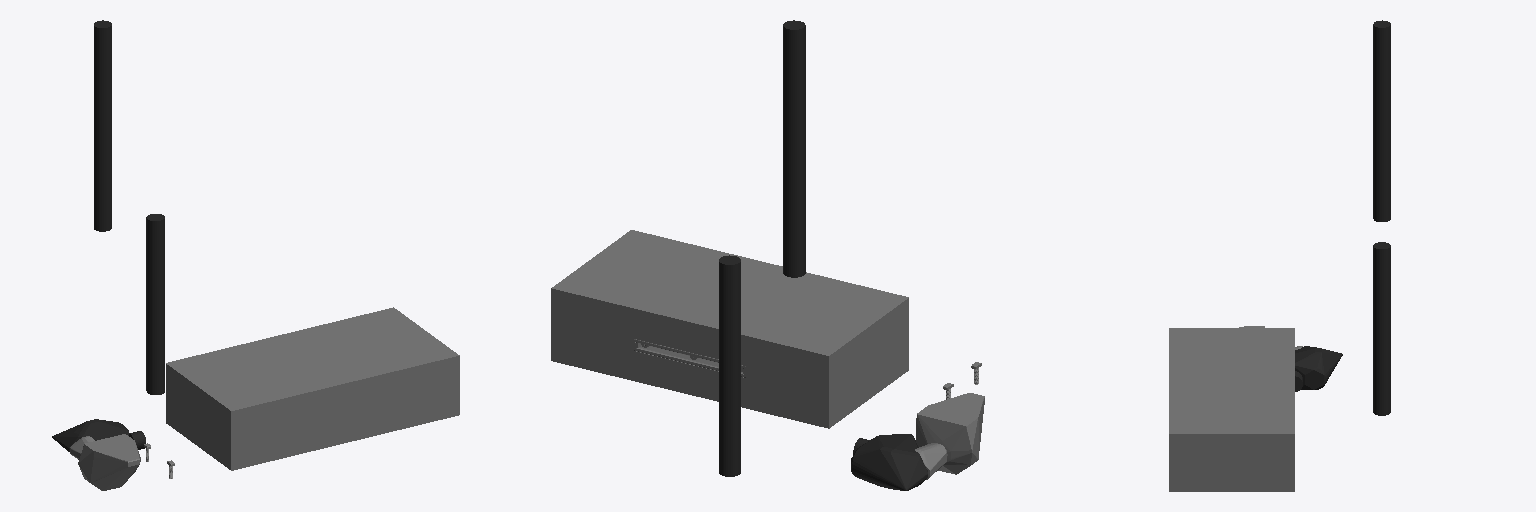
--- What the picture shows (computed from the rendered views, not written in the file) ---
3 views of the same robot in one strip: view 1: azimuth 30°, elevation 25°; view 2: azimuth 150°, elevation 25°; view 3: azimuth 270°, elevation 25° (orthographic).
Model metalman with 35 links and 34 joints (6 revolute, 28 fixed), rooted at world, posed every joint at zero.
Visible links, largest first — view 1: channel, left_upper_arm_link_cable, left_forearm_link_cable, left_bracket_gripper, left_extender; view 2: channel, left_upper_arm_link_cable, left_forearm_link_cable, left_bracket_gripper, left_extender, left_rotary; view 3: channel, left_upper_arm_link_cable, left_forearm_link_cable, left_extender.
Boxes of the visible links, x1,y1,x2,y2 form: channel: (166,307,459,470); left_upper_arm_link_cable: (94,20,111,231); left_forearm_link_cable: (146,214,164,394); left_bracket_gripper: (78,434,140,490); left_extender: (52,419,128,459); channel: (551,230,908,428); left_upper_arm_link_cable: (783,20,805,277); left_forearm_link_cable: (719,255,740,476); left_bracket_gripper: (916,393,984,474); left_extender: (851,434,927,490); left_rotary: (915,443,947,479); channel: (1169,328,1294,491); left_upper_arm_link_cable: (1373,20,1390,221); left_forearm_link_cable: (1373,242,1390,415); left_extender: (1295,346,1342,389).
Bounding box of the posed robot: 1.45 × 0.8813 × 1.67 m (x, y, z).
6 mesh visuals loaded from 13 distinct referenced files (5 binary STL); not drawn: 8 (reference not matched to a file when rendering).

URDF robot description (metalman):
<?xml version="1.0" ?>
<!-- =================================================================================== -->
<!-- |    This document was autogenerated by xacro from rl.xacro                       | -->
<!-- |    EDITING THIS FILE BY HAND IS NOT RECOMMENDED                                 | -->
<!-- =================================================================================== -->
<robot name="metalman">
  <mujoco>
    <compiler meshdir="../meshes/" strippath="false"/>
  </mujoco>
  <link name="world"/>
  <link name="base_link"/>
  <joint name="world_to_base" type="fixed">
    <parent link="world"/>
    <child link="base_link"/>
    <origin rpy="0 0 0" xyz="0 0 1.27"/>
  </joint>
  <!--
    Base UR robot series xacro macro.

    NOTE: this is NOT a URDF. It cannot directly be loaded by consumers
    expecting a flattened '.urdf' file. See the top-level '.xacro' for that
    (but note: that .xacro must still be processed by the xacro command).

    For use in '.launch' files: use one of the 'load_urX.launch' convenience
    launch files.

    This file models the base kinematic chain of a UR robot, which then gets
    parameterised by various configuration files to convert it into a UR3(e),
    UR5(e), UR10(e), UR16e or UR20.

    NOTE: the default kinematic parameters (ie: link lengths, frame locations,
    offets, etc) do not correspond to any particular robot. They are defaults
    only. There WILL be non-zero offsets between the Forward Kinematics results
    in TF (ie: robot_state_publisher) and the values reported by the Teach
    Pendant.

    For accurate (and robot-specific) transforms, the 'kinematics_parameters_file'
    parameter MUST point to a .yaml file containing the appropriate values for
    the targetted robot.

    If using the UniversalRobots/Universal_Robots_ROS_Driver, follow the steps
    described in the readme of that repository to extract the kinematic
    calibration from the controller and generate the required .yaml file.

    Main author of the migration to yaml configs: Ludovic Delval.

    Contributors to previous versions (in no particular order):

     - Felix Messmer
     - Kelsey Hawkins
     - Wim Meeussen
     - Shaun Edwards
     - Nadia Hammoudeh Garcia
     - Dave Hershberger
     - G. vd. Hoorn
     - Philip Long
     - Dave Coleman
     - Miguel Prada
     - Mathias Luedtke
     - Marcel Schnirring
     - Felix von Drigalski
     - Felix Exner
     - Jimmy Da Silva
     - Ajit Krisshna N L
     - Muhammad Asif Rana
  -->
  <!--
    NOTE: the macro defined in this file is NOT part of the public API of this
          package. Users CANNOT rely on this file being available, or stored in
          this location. Nor can they rely on the existence of the macro.
  -->
  <transmission name="left_shoulder_pan_trans">
    <type>transmission_interface/SimpleTransmission</type>
    <joint name="left_shoulder_pan_joint">
      <hardwareInterface>hardware_interface/PositionJointInterface</hardwareInterface>
    </joint>
    <actuator name="left_shoulder_pan_motor">
      <mechanicalReduction>1</mechanicalReduction>
    </actuator>
  </transmission>
  <transmission name="left_shoulder_lift_trans">
    <type>transmission_interface/SimpleTransmission</type>
    <joint name="left_shoulder_lift_joint">
      <hardwareInterface>hardware_interface/PositionJointInterface</hardwareInterface>
    </joint>
    <actuator name="left_shoulder_lift_motor">
      <mechanicalReduction>1</mechanicalReduction>
    </actuator>
  </transmission>
  <transmission name="left_elbow_trans">
    <type>transmission_interface/SimpleTransmission</type>
    <joint name="left_elbow_joint">
      <hardwareInterface>hardware_interface/PositionJointInterface</hardwareInterface>
    </joint>
    <actuator name="left_elbow_motor">
      <mechanicalReduction>1</mechanicalReduction>
    </actuator>
  </transmission>
  <transmission name="left_wrist_1_trans">
    <type>transmission_interface/SimpleTransmission</type>
    <joint name="left_wrist_1_joint">
      <hardwareInterface>hardware_interface/PositionJointInterface</hardwareInterface>
    </joint>
    <actuator name="left_wrist_1_motor">
      <mechanicalReduction>1</mechanicalReduction>
    </actuator>
  </transmission>
  <transmission name="left_wrist_2_trans">
    <type>transmission_interface/SimpleTransmission</type>
    <joint name="left_wrist_2_joint">
      <hardwareInterface>hardware_interface/PositionJointInterface</hardwareInterface>
    </joint>
    <actuator name="left_wrist_2_motor">
      <mechanicalReduction>1</mechanicalReduction>
    </actuator>
  </transmission>
  <transmission name="left_wrist_3_trans">
    <type>transmission_interface/SimpleTransmission</type>
    <joint name="left_wrist_3_joint">
      <hardwareInterface>hardware_interface/PositionJointInterface</hardwareInterface>
    </joint>
    <actuator name="left_wrist_3_motor">
      <mechanicalReduction>1</mechanicalReduction>
    </actuator>
  </transmission>
  <!-- links: main serial chain -->
  <link name="left_base_link"/>
  <link name="left_base_link_inertia">
    <visual>
      <origin rpy="0 0 3.141592653589793" xyz="0 0 0"/>
      <geometry>
        <mesh filename="ur20/visual/base.dae"/>
      </geometry>
      <material name="LightGrey">
        <color rgba="0.7 0.7 0.7 1.0"/>
      </material>
    </visual>
    <collision>
      <origin rpy="0 0 3.141592653589793" xyz="0 0 0"/>
      <geometry>
        <mesh filename="ur20/collision/base.stl" scale="1.3 1.3 1.3"/>
      </geometry>
    </collision>
    <inertial>
      <mass value="4.0"/>
      <origin rpy="0 0 0" xyz="0 0 0"/>
      <inertia ixx="0.0061063308908" ixy="0.0" ixz="0.0" iyy="0.0061063308908" iyz="0.0" izz="0.01125"/>
    </inertial>
  </link>
  <link name="left_shoulder_link">
    <visual>
      <origin rpy="0 0 3.141592653589793" xyz="0 0 0"/>
      <geometry>
        <mesh filename="ur20/visual/shoulder.dae"/>
      </geometry>
      <material name="LightGrey">
        <color rgba="0.7 0.7 0.7 1.0"/>
      </material>
    </visual>
    <collision>
      <origin rpy="0 0 3.141592653589793" xyz="0 0 0"/>
      <geometry>
        <mesh filename="ur20/collision/shoulder.stl" scale="1.3 1.3 1.3"/>
      </geometry>
    </collision>
    <inertial>
      <mass value="16.343"/>
      <origin rpy="0 0 0" xyz="0 0 0"/>
      <inertia ixx="0.06613328496334209" ixy="0.0" ixz="0.0" iyy="0.06613328496334209" iyz="0.0" izz="0.0459646875"/>
    </inertial>
  </link>
  <link name="left_upper_arm_link">
    <visual>
      <origin rpy="1.5707963267948966 0 -1.5707963267948966" xyz="0 0 0.26"/>
      <geometry>
        <mesh filename="ur20/visual/upperarm.dae"/>
      </geometry>
      <material name="LightGrey">
        <color rgba="0.7 0.7 0.7 1.0"/>
      </material>
    </visual>
    <collision>
      <origin rpy="1.5707963267948966 0 -1.5707963267948966" xyz="0 0 0.26"/>
      <geometry>
        <mesh filename="ur20/collision/upperarm.stl" scale="1.3 1.3 1"/>
      </geometry>
    </collision>
    <inertial>
      <mass value="29.632"/>
      <origin rpy="0 1.5707963267948966 0" xyz="-0.426 0.0 0.275"/>
      <inertia ixx="1.8341682103324226" ixy="0.0" ixz="0.0" iyy="1.8341682103324226" iyz="0.0" izz="0.08334"/>
    </inertial>
  </link>
  <link name="left_forearm_link">
    <visual>
      <origin rpy="1.5707963267948966 0 -1.5707963267948966" xyz="0 0 0.043"/>
      <geometry>
        <mesh filename="ur20/visual/forearm.dae"/>
      </geometry>
      <material name="LightGrey">
        <color rgba="0.7 0.7 0.7 1.0"/>
      </material>
    </visual>
    <collision>
      <origin rpy="1.5707963267948966 0 -1.5707963267948966" xyz="0 0 0.043"/>
      <geometry>
        <mesh filename="ur20/collision/forearm.stl" scale="1.3 1.3 1"/>
      </geometry>
    </collision>
    <inertial>
      <mass value="7.879"/>
      <origin rpy="0 1.5707963267948966 0" xyz="-0.36435 0.0 0.043"/>
      <inertia ixx="0.35972787265129336" ixy="0.0" ixz="0.0" iyy="0.35972787265129336" iyz="0.0" izz="0.022159687499999997"/>
    </inertial>
  </link>
  <link name="left_wrist_1_link">
    <visual>
      <!-- TODO: Move this to a parameter -->
      <origin rpy="1.5707963267948966 0 0" xyz="0 0 -0.0775"/>
      <geometry>
        <mesh filename="ur20/visual/wrist1.dae"/>
      </geometry>
      <material name="LightGrey">
        <color rgba="0.7 0.7 0.7 1.0"/>
      </material>
    </visual>
    <collision>
      <origin rpy="1.5707963267948966 0 0" xyz="0 0 -0.0775"/>
      <geometry>
        <mesh filename="ur20/collision/wrist1.stl" scale="1.3 1.3 1.3"/>
      </geometry>
    </collision>
    <inertial>
      <mass value="3.054"/>
      <origin rpy="0 0 0" xyz="0 0 0"/>
      <inertia ixx="0.007959484316204999" ixy="0.0" ixz="0.0" iyy="0.007959484316204999" iyz="0.0" izz="0.008589374999999998"/>
    </inertial>
  </link>
  <link name="left_wrist_2_link">
    <visual>
      <origin rpy="0 0 0" xyz="0 0 -0.0749"/>
      <geometry>
        <mesh filename="ur20/visual/wrist2.dae"/>
      </geometry>
      <material name="LightGrey">
        <color rgba="0.7 0.7 0.7 1.0"/>
      </material>
    </visual>
    <collision>
      <origin rpy="0 0 0" xyz="0 0 -0.0749"/>
      <geometry>
        <mesh filename="ur20/collision/wrist2.stl" scale="1.3 1.3 1.3"/>
      </geometry>
    </collision>
    <inertial>
      <mass value="3.126"/>
      <origin rpy="0 0 0" xyz="0 0 0"/>
      <inertia ixx="0.008147134241144998" ixy="0.0" ixz="0.0" iyy="0.008147134241144998" iyz="0.0" izz="0.008791875"/>
    </inertial>
  </link>
  <link name="left_wrist_3_link">
    <visual>
      <origin rpy="1.5707963267948966 0 0" xyz="0 0 -0.07"/>
      <geometry>
        <mesh filename="ur20/visual/wrist3.dae"/>
      </geometry>
      <material name="LightGrey">
        <color rgba="0.7 0.7 0.7 1.0"/>
      </material>
    </visual>
    <collision>
      <origin rpy="1.5707963267948966 0 0" xyz="0 0 -0.07"/>
      <geometry>
        <mesh filename="ur20/collision/wrist3.stl" scale="1.3 1.3 1.3"/>
      </geometry>
    </collision>
    <inertial>
      <mass value="0.846"/>
      <origin rpy="0 0 0" xyz="0.0 0.0 -0.025"/>
      <inertia ixx="0.000604537258185" ixy="0.0" ixz="0.0" iyy="0.000604537258185" iyz="0.0" izz="0.0008565749999999999"/>
    </inertial>
  </link>
  <!-- joints: main serial chain -->
  <joint name="left_base_link-base_link_inertia" type="fixed">
    <parent link="left_base_link"/>
    <child link="left_base_link_inertia"/>
    <!-- 'base_link' is REP-103 aligned (so X+ forward), while the internal
           frames of the robot/controller have X+ pointing backwards.
           Use the joint between 'base_link' and 'base_link_inertia' (a dummy
           link/frame) to introduce the necessary rotation over Z (of pi rad).
      -->
    <origin rpy="0 0 3.141592653589793" xyz="0 0 0"/>
  </joint>
  <joint name="left_shoulder_pan_joint" type="revolute">
    <parent link="left_base_link_inertia"/>
    <child link="left_shoulder_link"/>
    <origin rpy="0 0 0" xyz="0 0 0.2363"/>
    <axis xyz="0 0 1"/>
    <limit effort="730.0" lower="-6.283185307179586" upper="6.283185307179586" velocity="2.0943951023931953"/>
    <dynamics damping="0" friction="0"/>
  </joint>
  <joint name="left_shoulder_lift_joint" type="revolute">
    <parent link="left_shoulder_link"/>
    <child link="left_upper_arm_link"/>
    <origin rpy="1.570796327 0 0" xyz="0 0 0"/>
    <axis xyz="0 0 1"/>
    <limit effort="730.0" lower="-6.283185307179586" upper="6.283185307179586" velocity="2.0943951023931953"/>
    <dynamics damping="0" friction="0"/>
  </joint>
  <joint name="left_elbow_joint" type="revolute">
    <parent link="left_upper_arm_link"/>
    <child link="left_forearm_link"/>
    <origin rpy="0 0 0" xyz="-0.862 0 0"/>
    <axis xyz="0 0 1"/>
    <limit effort="430.0" lower="-3.141592653589793" upper="3.141592653589793" velocity="2.6179938779914944"/>
    <dynamics damping="0" friction="0"/>
  </joint>
  <joint name="left_wrist_1_joint" type="revolute">
    <parent link="left_forearm_link"/>
    <child link="left_wrist_1_link"/>
    <origin rpy="0 0 0" xyz="-0.7287 0 0.201"/>
    <axis xyz="0 0 1"/>
    <limit effort="100.0" lower="-6.283185307179586" upper="6.283185307179586" velocity="3.6651914291880923"/>
    <dynamics damping="0" friction="0"/>
  </joint>
  <joint name="left_wrist_2_joint" type="revolute">
    <parent link="left_wrist_1_link"/>
    <child link="left_wrist_2_link"/>
    <origin rpy="1.570796327 0 0" xyz="0 -0.1593 -3.267297616249225e-11"/>
    <axis xyz="0 0 1"/>
    <limit effort="100.0" lower="-6.283185307179586" upper="6.283185307179586" velocity="3.6651914291880923"/>
    <dynamics damping="0" friction="0"/>
  </joint>
  <joint name="left_wrist_3_joint" type="revolute">
    <parent link="left_wrist_2_link"/>
    <child link="left_wrist_3_link"/>
    <origin rpy="1.570796326589793 3.141592653589793 3.141592653589793" xyz="0 0.1543 -3.1647459019915597e-11"/>
    <axis xyz="0 0 1"/>
    <limit effort="100.0" lower="-6.283185307179586" upper="6.283185307179586" velocity="3.6651914291880923"/>
    <dynamics damping="0" friction="0"/>
  </joint>
  <!-- ROS-Industrial 'base' frame: base_link to UR 'Base' Coordinates transform -->
  <link name="left_base"/>
  <joint name="left_base_link-base_fixed_joint" type="fixed">
    <!-- Note the rotation over Z of pi radians: as base_link is REP-103
           aligned (ie: has X+ forward, Y+ left and Z+ up), this is needed
           to correctly align 'base' with the 'Base' coordinate system of
           the UR controller.
      -->
    <origin rpy="0 0 3.141592653589793" xyz="0 0 0"/>
    <parent link="left_base_link"/>
    <child link="left_base"/>
  </joint>
  <!-- ROS-Industrial 'flange' frame: attachment point for EEF models -->
  <link name="left_flange"/>
  <joint name="left_wrist_3-flange" type="fixed">
    <parent link="left_wrist_3_link"/>
    <child link="left_flange"/>
    <origin rpy="0 -1.5707963267948966 -1.5707963267948966" xyz="0 0 0"/>
  </joint>
  <!-- ROS-Industrial 'tool0' frame: all-zeros tool frame -->
  <link name="left_tool0"/>
  <joint name="left_flange-tool0" type="fixed">
    <!-- default toolframe: X+ left, Y+ up, Z+ front -->
    <origin rpy="1.5707963267948966 0 1.5707963267948966" xyz="0 0 0"/>
    <parent link="left_flange"/>
    <child link="left_tool0"/>
  </joint>
  <joint name="left_base_link_joint" type="fixed">
    <parent link="base_link"/>
    <child link="left_base_link"/>
    <origin rpy="1.5707963267948966 1.5707963267948966 3.141592653589793" xyz="-0.3 0 0"/>
  </joint>
  <link name="left_extender">
    <visual>
      <origin rpy="0 0 0" xyz="0 0 0"/>
      <geometry>
        <mesh filename="rest/visual/extender.stl"/>
      </geometry>
      <material name="extender_material">
        <color rgba="0.2 0.2 0.2 1.0"/>
      </material>
    </visual>
    <collision>
      <origin rpy="0 0 0" xyz="0 0 0"/>
      <geometry>
        <mesh filename="rest/collision/extender.stl"/>
      </geometry>
    </collision>
  </link>
  <joint name="left_extender_joint" type="fixed">
    <parent link="left_tool0"/>
    <child link="left_extender"/>
    <origin rpy="0 0 0" xyz="0 0 0"/>
  </joint>
  <link name="left_ft_sensor"/>
  <joint name="left_ft_sensor_joint" type="fixed">
    <parent link="left_extender"/>
    <child link="left_ft_sensor"/>
    <origin rpy="1.5707963267948966 0.2617993877991494 0" xyz="0 0.0025 0.180"/>
  </joint>
  <link name="left_staubli_tip"/>
  <joint name="left_staubli_tip_joint" type="fixed">
    <parent link="left_ft_sensor"/>
    <child link="left_staubli_tip"/>
    <origin rpy="0 0 3.4033920413889427" xyz="0 0 0.04686"/>
  </joint>
  <link name="left_probe_tip"/>
  <joint name="left_probe_tip_joint" type="fixed">
    <parent link="left_tool0"/>
    <child link="left_probe_tip"/>
    <origin rpy="-1.5707963267948966 0 0" xyz="0 0.1125 0.228"/>
  </joint>
  <link name="left_reflector"/>
  <joint name="left_reflector_joint" type="fixed">
    <parent link="left_tool0"/>
    <child link="left_reflector"/>
    <origin rpy="0 0 0" xyz="0 -0.023338 0.056323"/>
  </joint>
  <link name="left_rotary">
    <visual>
      <origin rpy="0 0 0" xyz="0 0 0"/>
      <geometry>
        <mesh filename="rest/visual/rotary.stl"/>
      </geometry>
      <material name="rotary_material">
        <color rgba="0.5 0.5 0.5 1.0"/>
      </material>
    </visual>
    <collision>
      <origin rpy="0 0 0" xyz="0 0 0"/>
      <geometry>
        <mesh filename="rest/collision/rotary.stl"/>
      </geometry>
    </collision>
  </link>
  <joint name="left_rotary_joint" type="fixed">
    <parent link="left_staubli_tip"/>
    <child link="left_rotary"/>
    <origin rpy="0 0 0" xyz="0 0 0"/>
  </joint>
  <link name="left_rotary_tip"/>
  <joint name="left_rotary_tip_joint" type="fixed">
    <parent link="left_rotary"/>
    <child link="left_rotary_tip"/>
    <origin rpy="0 0 0" xyz="0 0 0.1358"/>
    <!-- <axis xyz="0 0 1" /> -->
    <!-- <limit lower="${-2*pi}" upper="${2*pi}" effort="0" velocity="10" /> -->
  </joint>
  <link name="left_bracket_gripper">
    <visual>
      <origin rpy="0 0 0" xyz="0 0 0"/>
      <geometry>
        <mesh filename="rest/visual/bracket_gripper.stl"/>
      </geometry>
      <material name="bracket_gripper_material">
        <color rgba="0.5 0.5 0.5 1.0"/>
      </material>
    </visual>
    <collision>
      <origin rpy="0 0 0" xyz="0 0 0"/>
      <geometry>
        <mesh filename="rest/collision/bracket_gripper.stl"/>
      </geometry>
    </collision>
  </link>
  <joint name="left_bracket_gripper_joint" type="fixed">
    <parent link="left_rotary_tip"/>
    <child link="left_bracket_gripper"/>
    <origin rpy="0 0 3.141592653589793" xyz="0 0 0"/>
  </joint>
  <!-- <link name="${prefix}bracket_gripper_finger0">
      <visual>
        <origin xyz="0 0 0" rpy="0 0 0" />
        <geometry>
          <mesh filename="visual/bracket_gripper_finger0.stl"/>
        </geometry>
        <material name="bracket_gripper_material">
          <color rgba="0.5 0.5 0.5 1.0"/>
        </material>
      </visual>
      <collision>
        <origin xyz="0 0 0" rpy="0 0 0" />
        <geometry>
          <mesh filename="collision/bracket_gripper_finger0.stl"/>
        </geometry>
      </collision>
    </link>
    <joint name="${prefix}bracket_gripper_finger0_joint" type="fixed">
      <parent link="${parent}" />
      <child link="${prefix}bracket_gripper_finger0" />
      <origin xyz="0 0 0" rpy="0 0 0" />
    </joint>

    <link name="${prefix}bracket_gripper_finger1">
      <visual>
        <origin xyz="0 0 0" rpy="0 0 0" />
        <geometry>
          <mesh filename="visual/bracket_gripper_finger1.stl"/>
        </geometry>
        <material name="bracket_gripper_material">
          <color rgba="0.5 0.5 0.5 1.0"/>
        </material>
      </visual>
      <collision>
        <origin xyz="0 0 0" rpy="0 0 0" />
        <geometry>
          <mesh filename="collision/bracket_gripper_finger1.stl"/>
        </geometry>
      </collision>
    </link>
    <joint name="${prefix}bracket_gripper_finger1_joint" type="fixed">
      <parent link="${parent}" />
      <child link="${prefix}bracket_gripper_finger1" />
      <origin xyz="0 0 0" rpy="0 0 0" />
    </joint> -->
  <link name="left_bracket_gripper_tip"/>
  <joint name="left_bracket_gripper_tip_joint" type="fixed">
    <parent link="left_bracket_gripper"/>
    <child link="left_bracket_gripper_tip"/>
    <origin rpy="0 0 0" xyz="0.1875 0 0.145"/>
  </joint>
  <link name="left_harmon_bracket">
    <visual>
      <origin rpy="0 0 0" xyz="0 0 0"/>
      <geometry>
        <mesh filename="rest/visual/harmon_bracket.stl"/>
      </geometry>
      <material name="bracket_gripper_material">
        <color rgba="0.5 0.5 0.5 1.0"/>
      </material>
    </visual>
    <collision>
      <origin rpy="0 0 0" xyz="0 0 0"/>
      <geometry>
        <mesh filename="rest/collision/harmon_bracket.stl"/>
      </geometry>
    </collision>
  </link>
  <joint name="left_harmon_bracket_joint" type="fixed">
    <parent link="left_bracket_gripper"/>
    <child link="left_harmon_bracket"/>
    <origin rpy="0 0 0" xyz="0 0 0"/>
  </joint>
  <link name="left_harmon_bracket_tip"/>
  <joint name="left_harmon_bracket_tip_joint" type="fixed">
    <parent link="left_bracket_gripper"/>
    <child link="left_harmon_bracket_tip"/>
    <origin rpy="3.141592653589793 -1.5707963267948966 0" xyz="0.122 -0.157925 0.2885 "/>
  </joint>
  <link name="left_harmon_bracket_ctrl_tip"/>
  <joint name="left_harmon_bracket_ctrl_tip_joint" type="fixed">
    <parent link="left_bracket_gripper"/>
    <child link="left_harmon_bracket_ctrl_tip"/>
    <origin rpy="3.141592653589793 -1.5707963267948966 0" xyz="0.122 -0.157925 0.2"/>
  </joint>
  <link name="left_bolt0">
    <visual>
      <origin rpy="0 0 0" xyz="0 0 0"/>
      <geometry>
        <mesh filename="rest/visual/bolt.stl"/>
      </geometry>
      <material name="bolt_material">
        <color rgba="0.5 0.5 0.5 1.0"/>
      </material>
    </visual>
    <collision>
      <origin rpy="0 0 0" xyz="0 0 0"/>
      <geometry>
        <mesh filename="rest/collision/bolt.stl"/>
      </geometry>
    </collision>
  </link>
  <joint name="left_bolt0_joint" type="fixed">
    <parent link="left_harmon_bracket_tip"/>
    <child link="left_bolt0"/>
    <origin rpy="0 3.141592653589793 0" xyz="-0.0889 -0.0762 0.0124"/>
  </joint>
  <link name="left_bolt1">
    <visual>
      <origin rpy="0 0 0" xyz="0 0 0"/>
      <geometry>
        <mesh filename="rest/visual/bolt.stl"/>
      </geometry>
      <material name="bolt_material">
        <color rgba="0.5 0.5 0.5 1.0"/>
      </material>
    </visual>
    <collision>
      <origin rpy="0 0 0" xyz="0 0 0"/>
      <geometry>
        <mesh filename="rest/collision/bolt.stl"/>
      </geometry>
    </collision>
  </link>
  <joint name="left_bolt1_joint" type="fixed">
    <parent link="left_harmon_bracket_tip"/>
    <child link="left_bolt1"/>
    <origin rpy="0 3.141592653589793 0" xyz="0.0889 -0.0762 0.0124"/>
  </joint>
  <link name="left_realsense_color_optical_frame"/>
  <joint name="left_realsense_color_optical_frame_joint" type="fixed">
    <parent link="left_tool0"/>
    <child link="left_realsense_color_optical_frame"/>
    <origin rpy="1.5752224 0.0041304 3.1308816" xyz="0.0418582 0.0276486 0.107503"/>
  </joint>
  <link name="left_upper_arm_link_cable_parent"/>
  <joint name="left_upper_arm_link_cable_parent_joint" type="fixed">
    <parent link="left_upper_arm_link"/>
    <child link="left_upper_arm_link_cable_parent"/>
    <origin rpy="0 0 0" xyz="0 0 0"/>
  </joint>
  <link name="left_upper_arm_link_cable">
    <visual>
      <origin rpy="0 1.5707963267948966 0" xyz="0 -0.11 0"/>
      <geometry>
        <cylinder length="0.852" radius="0.035"/>
      </geometry>
      <material name="cable_material">
        <color rgba="0.2 0.2 0.2 1.0"/>
      </material>
    </visual>
    <collision>
      <origin rpy="0 1.5707963267948966 0" xyz="0 -0.11 0"/>
      <geometry>
        <cylinder length="0.852" radius="0.035"/>
      </geometry>
    </collision>
  </link>
  <joint name="left_upper_arm_link_cable_joint" type="fixed">
    <parent link="left_upper_arm_link_cable_parent"/>
    <child link="left_upper_arm_link_cable"/>
    <origin rpy="3.141592653589793 0 0" xyz="-0.426 0 0.275"/>
  </joint>
  <link name="left_forearm_link_cable_parent"/>
  <joint name="left_forearm_link_cable_parent_joint" type="fixed">
    <parent link="left_forearm_link"/>
    <child link="left_forearm_link_cable_parent"/>
    <origin rpy="0 0 0" xyz="0 0 0"/>
  </joint>
  <link name="left_forearm_link_cable">
    <visual>
      <origin rpy="0 1.5707963267948966 0" xyz="0 -0.11 0"/>
      <geometry>
        <cylinder length="0.7287" radius="0.035"/>
      </geometry>
      <material name="cable_material">
        <color rgba="0.2 0.2 0.2 1.0"/>
      </material>
    </visual>
    <collision>
      <origin rpy="0 1.5707963267948966 0" xyz="0 -0.11 0"/>
      <geometry>
        <cylinder length="0.7287" radius="0.035"/>
      </geometry>
    </collision>
  </link>
  <joint name="left_forearm_link_cable_joint" type="fixed">
    <parent link="left_forearm_link_cable_parent"/>
    <child link="left_forearm_link_cable"/>
    <origin rpy="3.141592653589793 0 0" xyz="-0.36435 0 0.043"/>
  </joint>
  <link name="left_wrist_3_link_cable_parent"/>
  <joint name="left_wrist_3_link_cable_parent_joint" type="fixed">
    <parent link="left_wrist_3_link"/>
    <child link="left_wrist_3_link_cable_parent"/>
    <origin rpy="0 -1.5707963267948966 0" xyz="0 0 0"/>
  </joint>
  <link name="left_wrist_3_link_cable">
    <visual>
      <origin rpy="0 1.5707963267948966 0" xyz="0 -0.08 0"/>
      <geometry>
        <cylinder length="0.05" radius="0.035"/>
      </geometry>
      <material name="cable_material">
        <color rgba="0.2 0.2 0.2 1.0"/>
      </material>
    </visual>
    <collision>
      <origin rpy="0 1.5707963267948966 0" xyz="0 -0.08 0"/>
      <geometry>
        <cylinder length="0.05" radius="0.035"/>
      </geometry>
    </collision>
  </link>
  <joint name="left_wrist_3_link_cable_joint" type="fixed">
    <parent link="left_wrist_3_link_cable_parent"/>
    <child link="left_wrist_3_link_cable"/>
    <origin rpy="0 0 0" xyz="-0.025 0 0"/>
  </joint>
  <link name="channel">
    <visual>
      <origin rpy="0 0 0" xyz="0 0 0"/>
      <geometry>
        <mesh filename="rest/visual/channel_and_concrete_block.stl"/>
      </geometry>
      <material name="frame_material">
        <color rgba="0.5 0.5 0.5 1.0"/>
      </material>
    </visual>
    <collision>
      <origin rpy="0 0 0" xyz="0 0 0"/>
      <geometry>
        <mesh filename="rest/collision/channel_and_concrete_block.stl"/>
      </geometry>
    </collision>
  </link>
  <joint name="$channel_parent_joint" type="fixed">
    <parent link="world"/>
    <child link="channel"/>
    <origin rpy="0 0 0" xyz="0 0 -0.15"/>
  </joint>
</robot>
